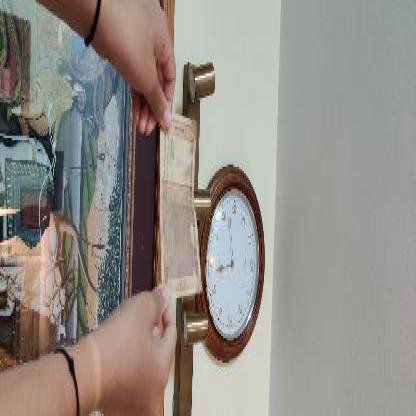New10Back: (160, 115, 200, 297)
